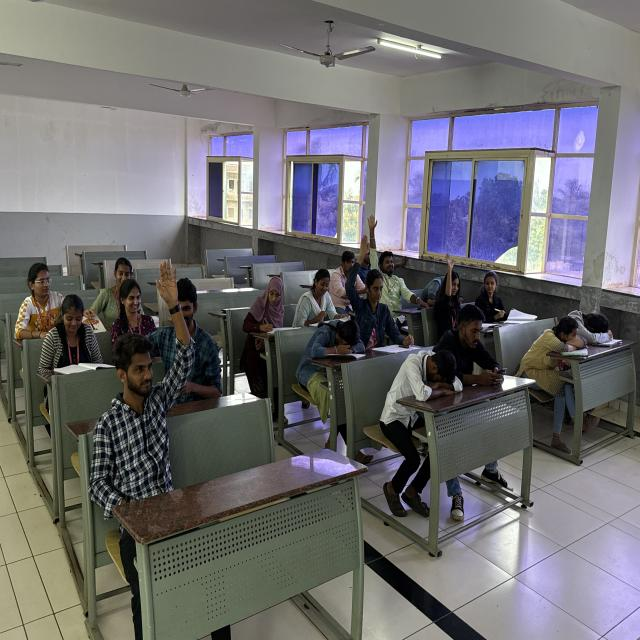Hand Rising: (93, 254, 206, 522), (347, 234, 403, 322), (365, 213, 418, 301), (439, 250, 466, 324)
Reading: (44, 292, 110, 384), (297, 267, 352, 330)
Sleeping: (384, 346, 459, 417), (520, 314, 589, 376), (304, 318, 368, 380), (564, 305, 626, 354)
Using Phone: (436, 301, 513, 388)
Writing: (242, 273, 292, 342), (476, 268, 534, 327)
